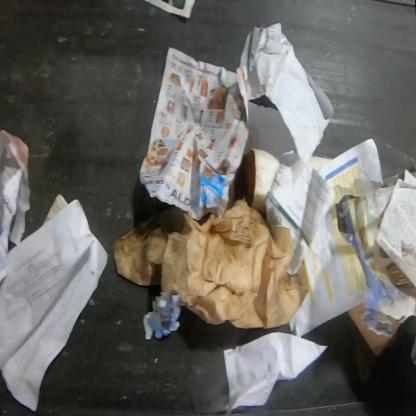cardboard: (349, 300, 402, 382), (246, 149, 282, 229)
